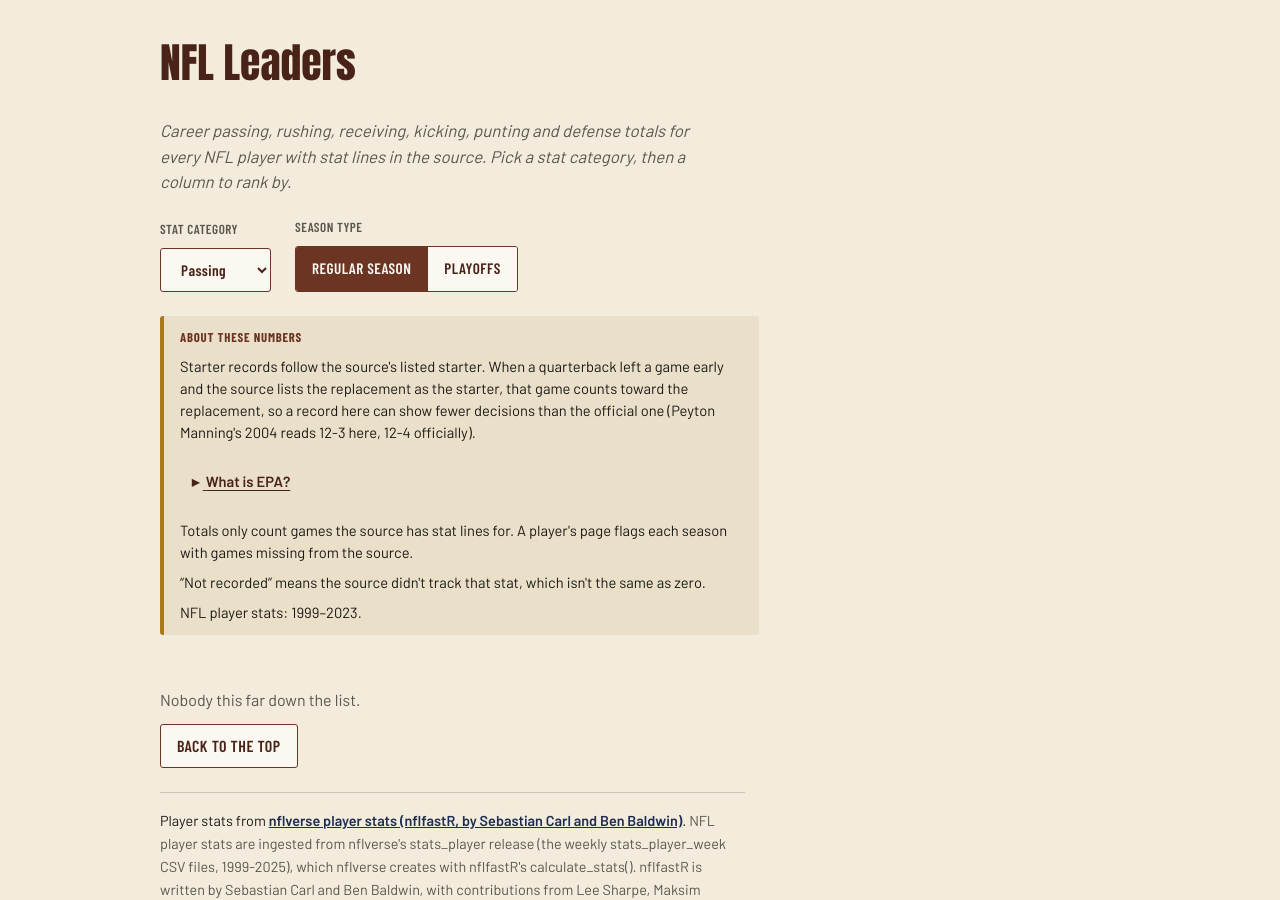
Scenario: PlayerLeadersPage (issue #296) › says so, and offers the top of the list, when a page is past the end
This screenshot has width=1280, height=900.
Expected: the text "Nobody this far down the list." is shown, [160,688,360,712]
Click the button "Back to the top" at {"x": 229, "y": 746}, box [160,724,298,768]
(page scrolled)
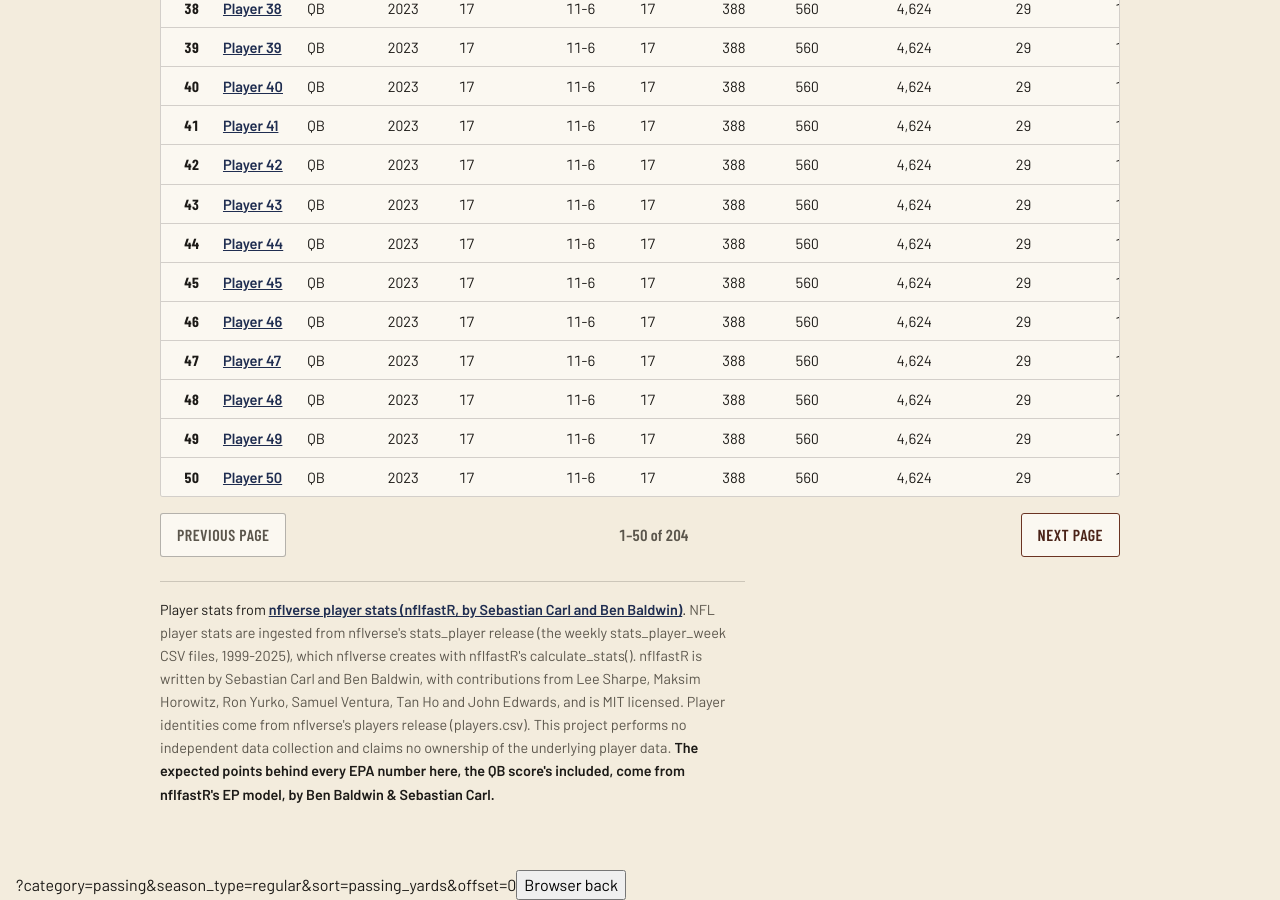
Expected: the text "1–50 of 204" is shown, [619,523,688,547]
